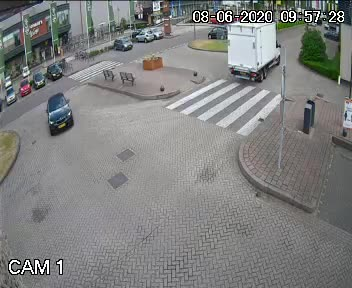car: (221, 12, 287, 88), (42, 90, 81, 135)
